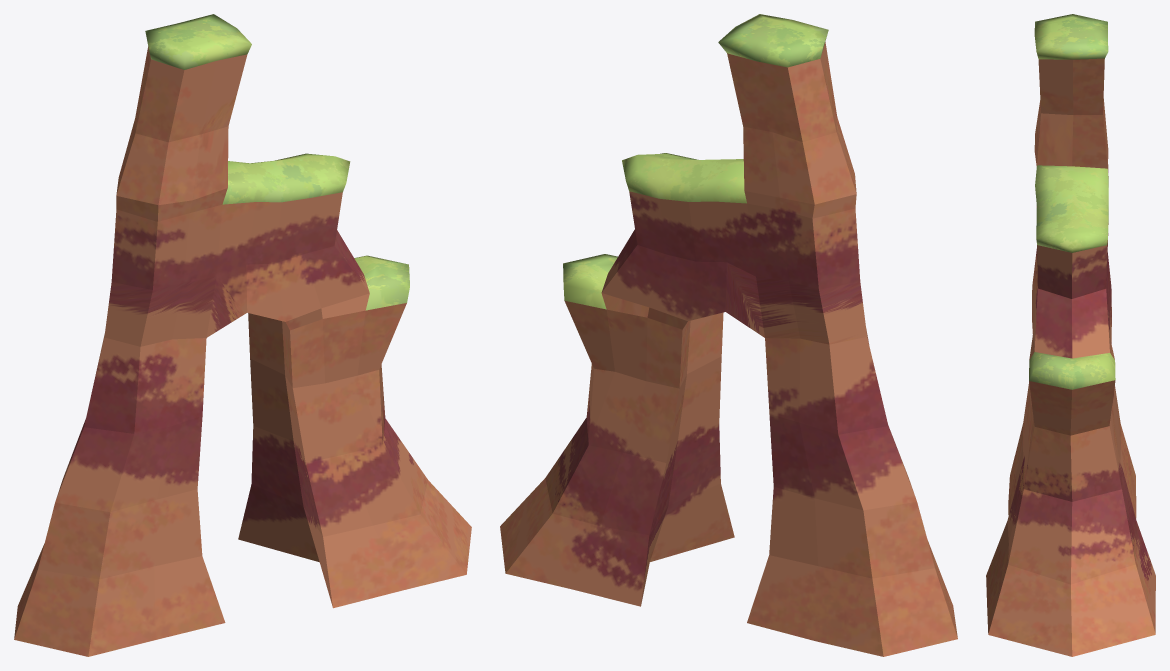
Rendered from rock8.fbx.
3 views of the same model, side by side, from view 1: azimuth 30°, elevation 25°; view 2: azimuth 150°, elevation 25°; view 3: azimuth 270°, elevation 25° (orthographic). The views are drawn at different scales.
Visible parts, largest first — view 1: rock8; view 2: rock8; view 3: rock8.
Boxes of the visible parts, x1,y1,x2,y2 form: rock8: (14, 14, 471, 656); rock8: (500, 14, 957, 656); rock8: (986, 14, 1155, 656).
Bounding box in the file's own units: 914 × 1083 × 326.
